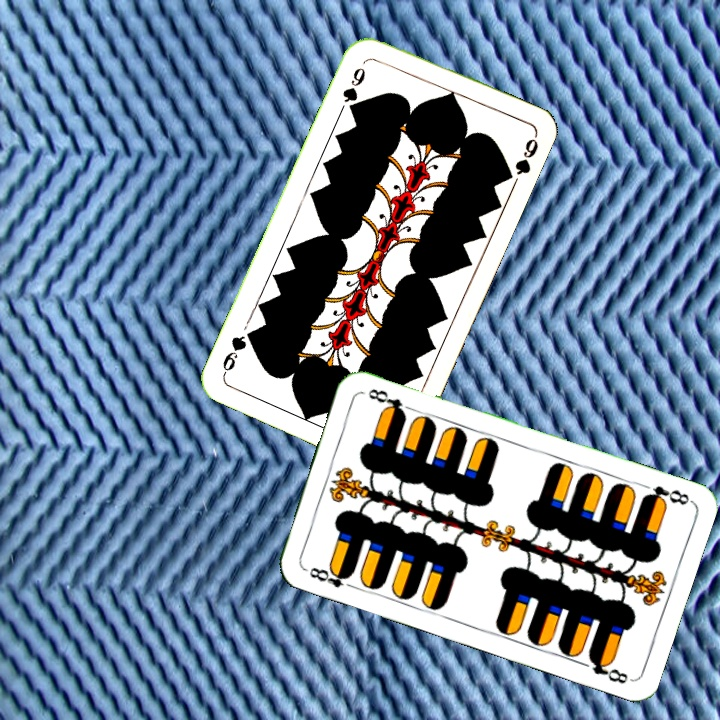E8: (305, 562, 358, 591), (638, 481, 693, 508)
G9: (338, 63, 368, 115)
